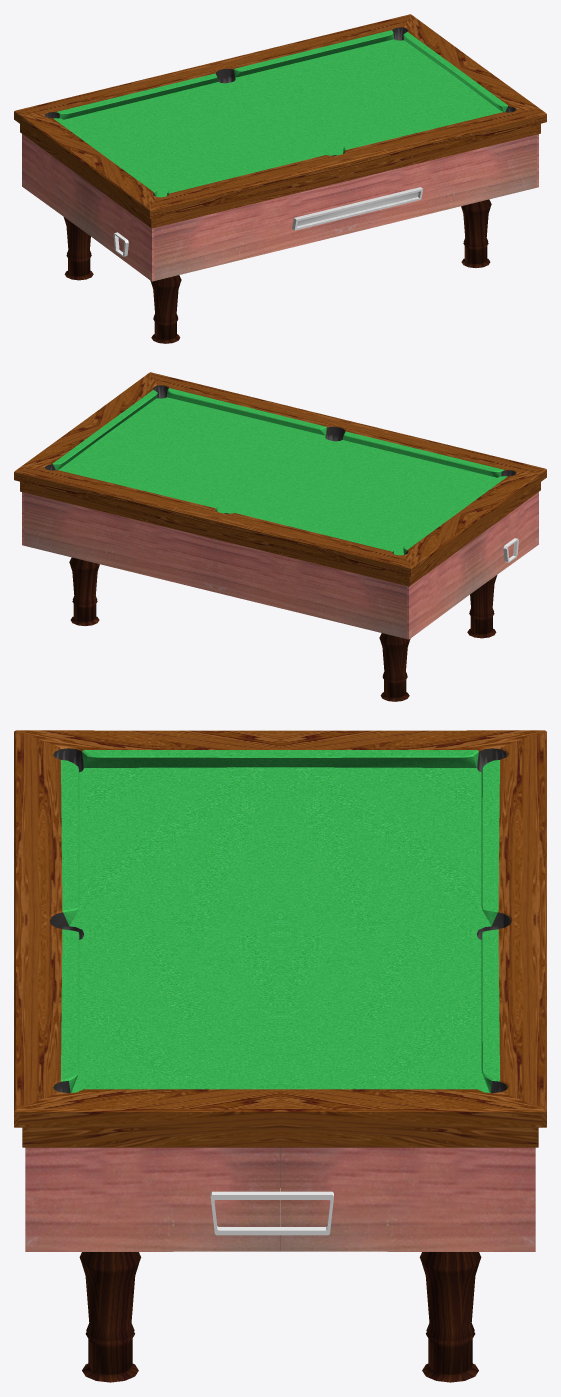
The model's file is pool_table_002.fbx.
3 renders of one model, top to bottom at view 1: azimuth 30°, elevation 25°; view 2: azimuth 150°, elevation 25°; view 3: azimuth 270°, elevation 25°, orthographic. The views are drawn at different scales.
Parts seen in each view (by area): view 1: Table (Core)002; view 2: Table (Core)002; view 3: Table (Core)002.
Boxes of the visible parts, left/top/right/bottom form: Table (Core)002: left=14, top=14, right=546, bottom=343; Table (Core)002: left=14, top=372, right=546, bottom=701; Table (Core)002: left=14, top=730, right=546, bottom=1382.
Size of the model in its own units: 224 by 84.02 by 133.
